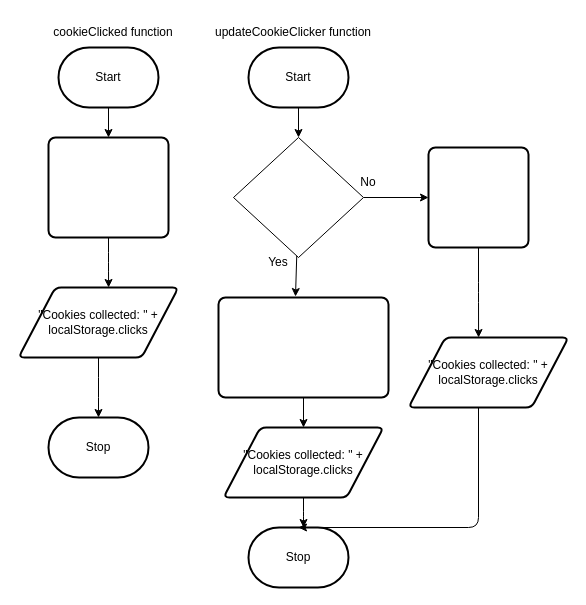
Some shapes in this 586 by 605 pixel diagram are drawn without their labels. Here are the shapes that lost their labels. From the top down, the centre of each, then its label:
the point at 108,187: localStorage.clicks++
the point at 298,197: if (localStorage.clicks)
the point at 478,197: localStorage.clicks = 0
the point at 303,347: localStorage.clicks = Number(localStorage.clicks)
